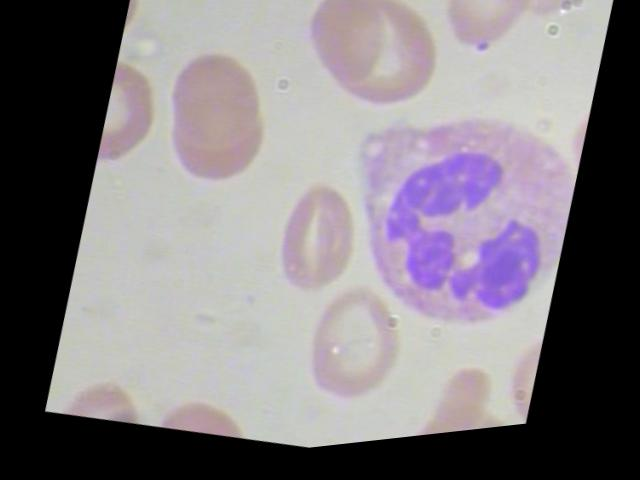Red Blood Cells: (246, 173, 369, 323), (291, 281, 414, 430), (152, 43, 272, 169), (285, 0, 394, 100), (145, 380, 269, 456), (425, 0, 536, 76), (49, 366, 153, 436), (135, 0, 259, 14), (311, 0, 432, 13)
White Blood Cells: (307, 85, 590, 370)
